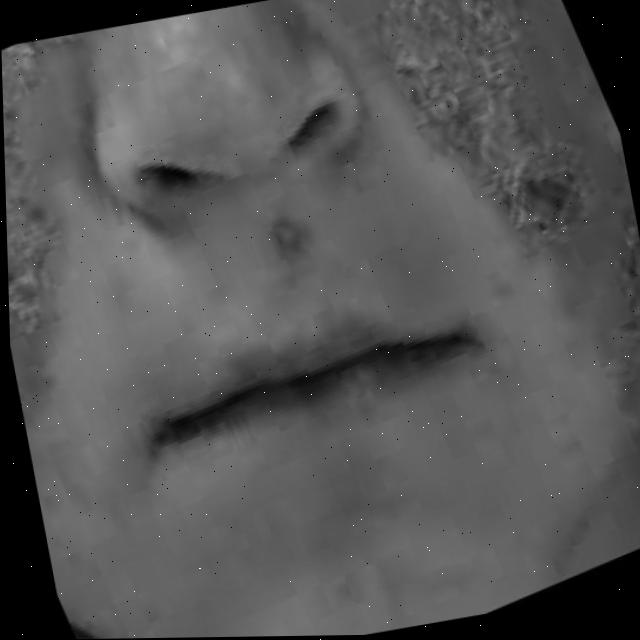Eczema: (297, 0, 640, 432), (1, 32, 152, 422)
